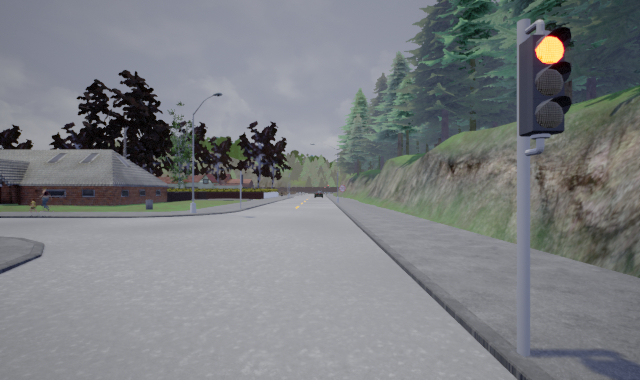pedestrian: (37, 185, 55, 212), (26, 197, 41, 215)
traffic_light: (519, 26, 572, 136)
vehicle: (314, 189, 325, 199)
